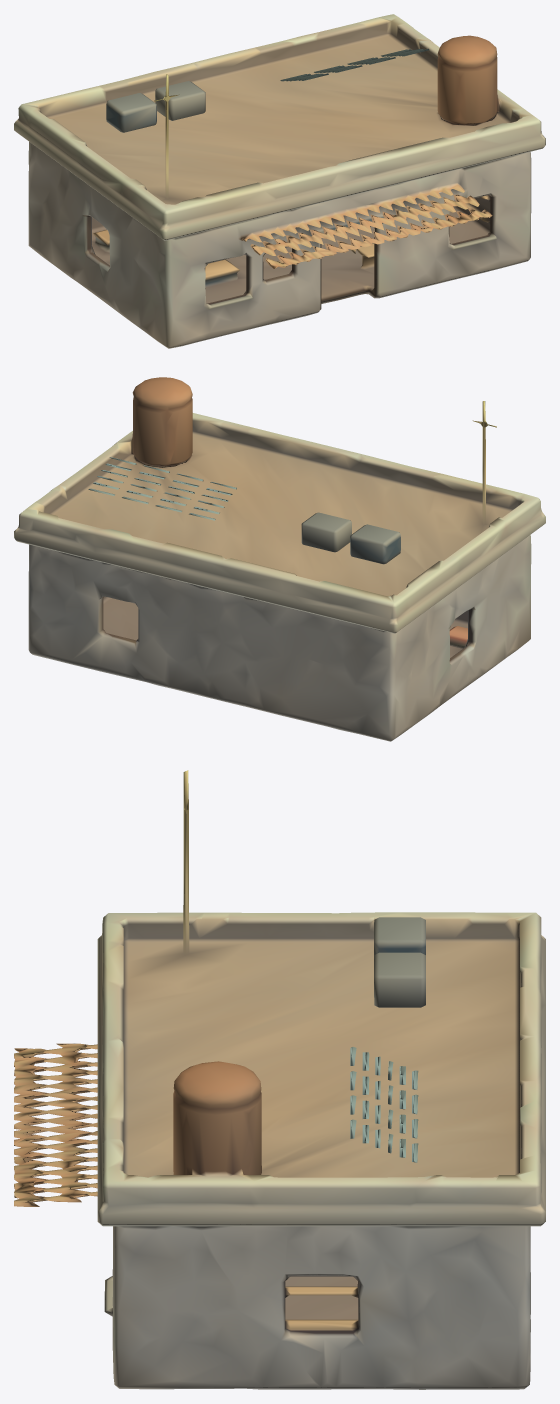
Rendered from env_st_hall.glb.
3 renders of one model, top to bottom at view 1: azimuth 30°, elevation 25°; view 2: azimuth 150°, elevation 25°; view 3: azimuth 270°, elevation 25°, orthographic. The views are drawn at different scales.
Parts seen in each view (by area): view 1: geometry_0; view 2: geometry_0; view 3: geometry_0.
Part boxes in pixels (x1=…): geometry_0: x1=14, y1=14, x2=545, y2=348; geometry_0: x1=14, y1=377, x2=545, y2=741; geometry_0: x1=14, y1=770, x2=545, y2=1389.
Bounding box in the file's own units: 12.6 × 7.94 × 10.2.
